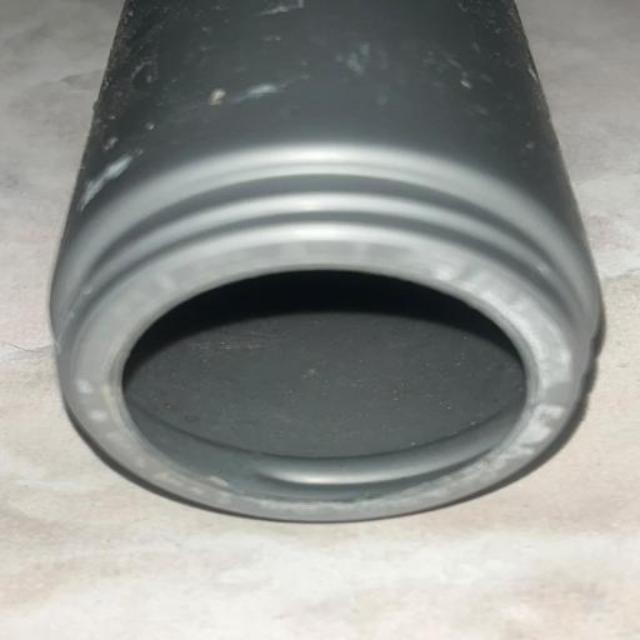HDPE: (20, 14, 640, 585)
